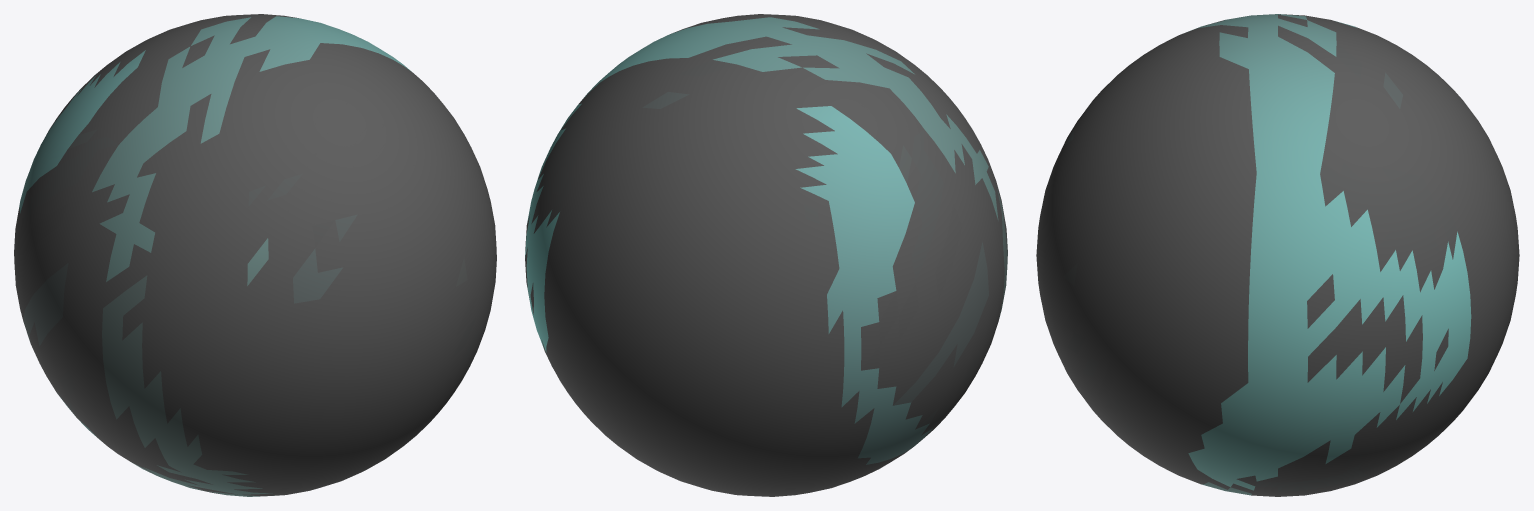
The model's file is Catom.glb.
3 views of the same model, side by side, from view 1: azimuth 30°, elevation 25°; view 2: azimuth 150°, elevation 25°; view 3: azimuth 270°, elevation 25° (orthographic).
Visible parts, largest first — view 1: node_id5; view 2: node_id5; view 3: node_id5.
Boxes of the visible parts, x1,y1,x2,y2 form: node_id5: (14,14,496,496); node_id5: (525,14,1007,496); node_id5: (1036,14,1519,496).
Size of the model in its own units: 0.8337 by 0.8337 by 0.8337.
1 material, 1 textured.
